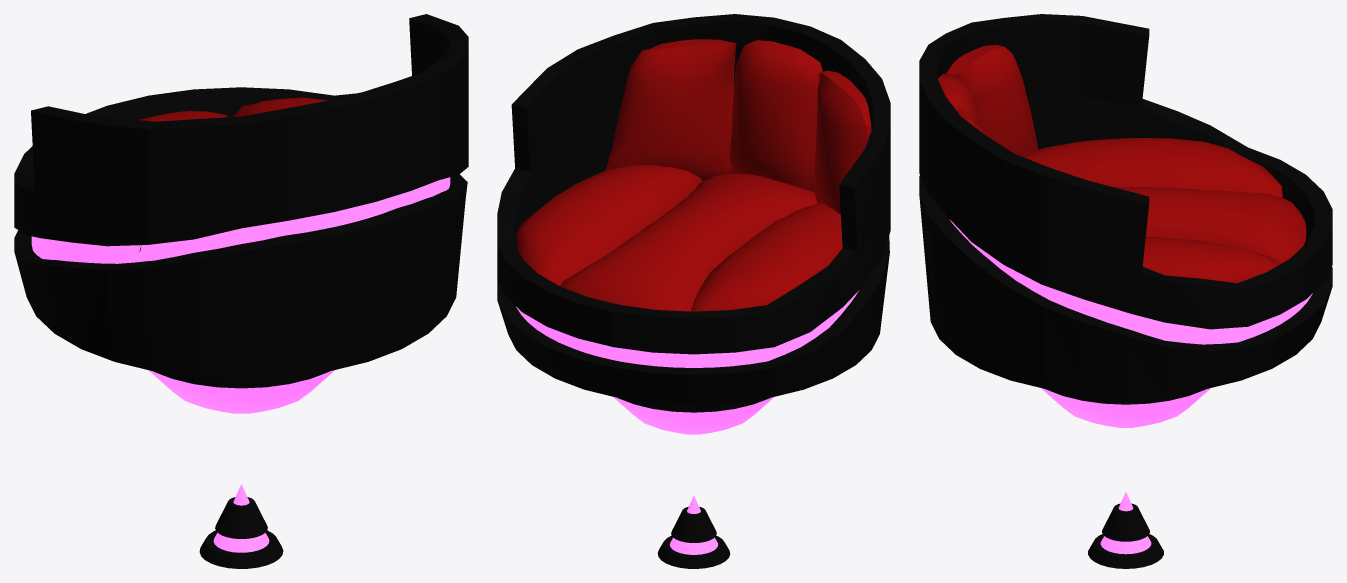
Rendered from Baristapocalypse_chairfloat_ low_Samori_Nov27.fbx.
3 renders of one model, left to right at view 1: azimuth 30°, elevation 25°; view 2: azimuth 150°, elevation 25°; view 3: azimuth 270°, elevation 25°, orthographic. The views are drawn at different scales.
Visible parts, largest first — view 1: chair_1_low; view 2: chair_1_low; view 3: chair_1_low.
Boxes of the visible parts, bbox=[...] form: chair_1_low: bbox=[14, 14, 468, 568]; chair_1_low: bbox=[497, 14, 890, 568]; chair_1_low: bbox=[919, 14, 1332, 568].
Bounding box in the file's own units: 16.48 × 21.12 × 16.39.
